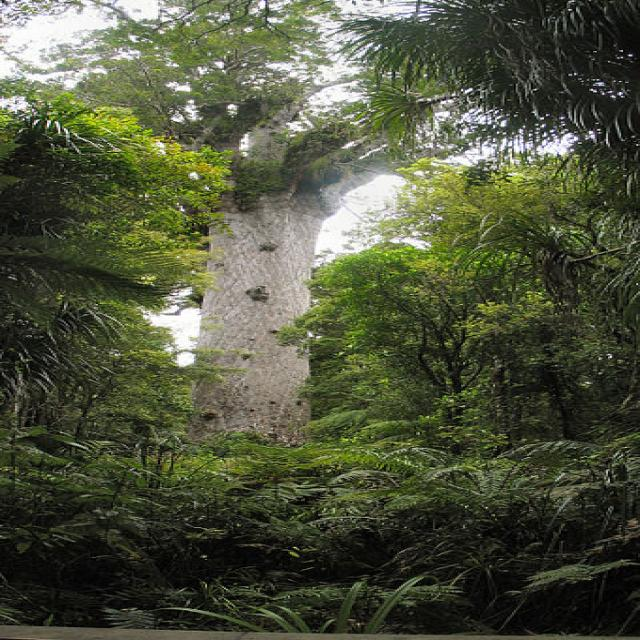Kauri: (142, 18, 402, 448)
